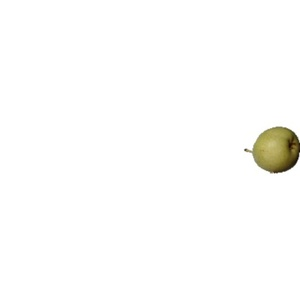pera: (245, 126, 300, 174)
